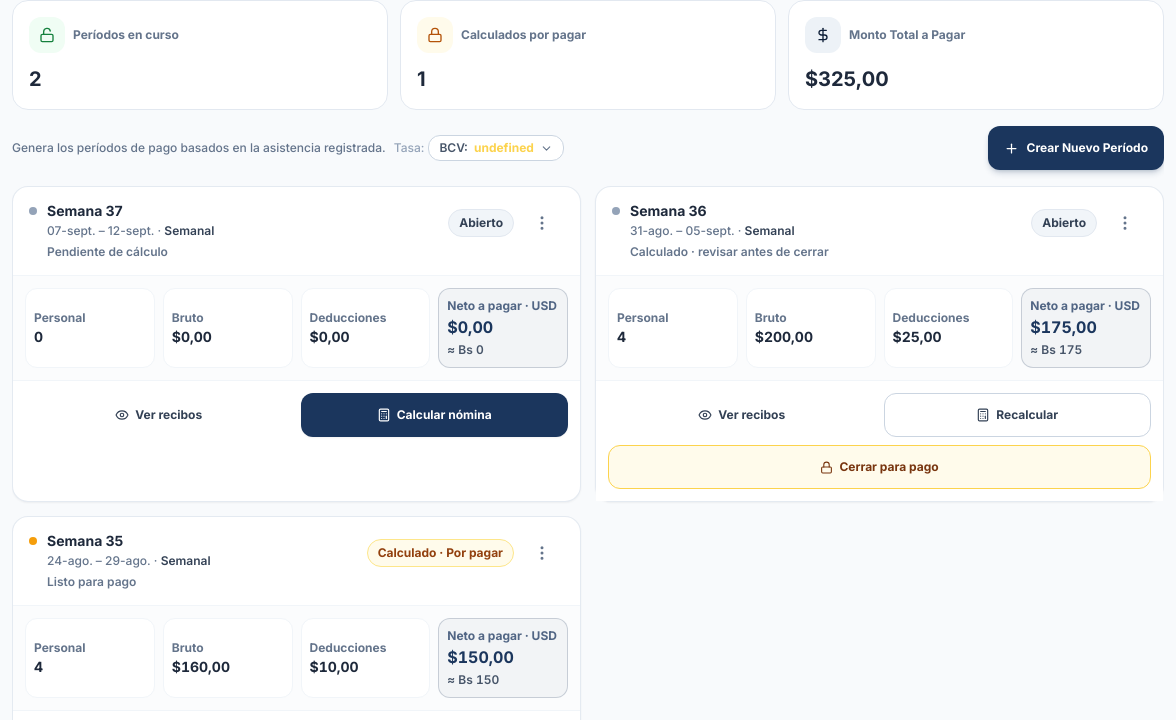
TabPeriodos — tarjetas de período y permisos › muestra importe neto, deducciones y pasos; la acción principal cambia según el estado
The width and height of the screenshot is (1176, 720).
Expected: the text "Neto a pagar · USD" is shown 3 times, [447,297,559,315]; [1030,297,1142,315]; [447,627,559,645]
Expected: the text "Deducciones" is shown 3 times, [310,310,386,325]; [892,310,969,325]; [310,640,386,655]
Click the button "Cerrar para pago".
click(880, 467)  # box [608,445,1151,489]
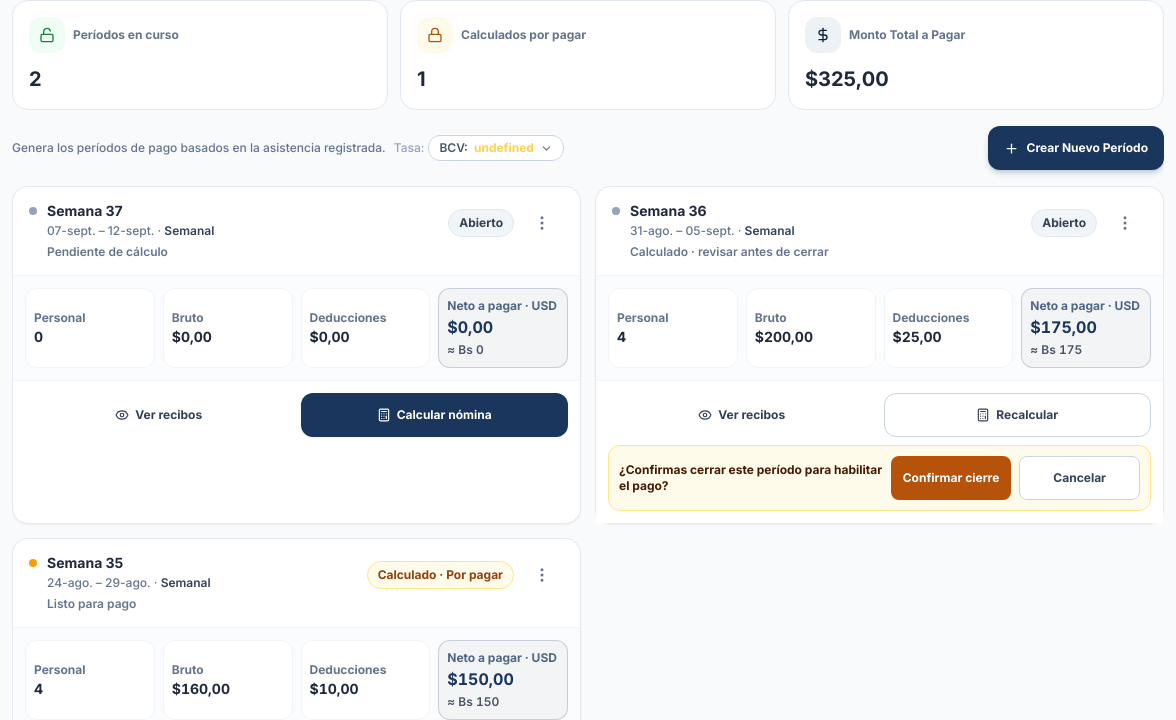
Expected: the text "≈ Bs 175" is shown, [1030,342,1082,357]
Now the button "Confirmar cierre" is shown, box [891,456,1011,500]
Now the button "Cancelar" is shown, box [1019,456,1140,500]
